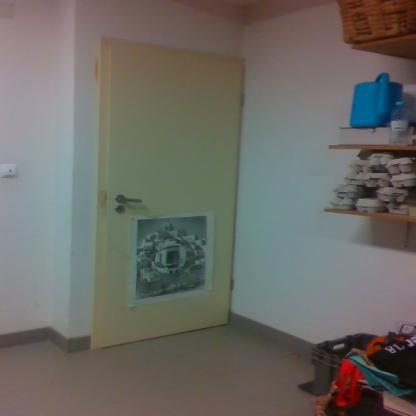door: (108, 43, 231, 350)
hinged: (240, 94, 247, 108), (229, 275, 234, 288)
lever: (115, 194, 143, 204)
